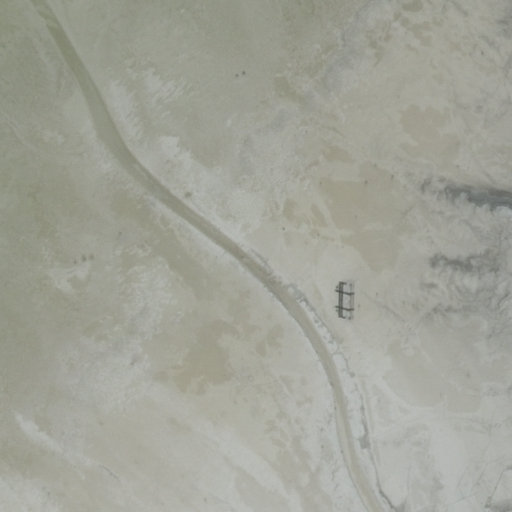TT: (330, 280, 353, 320)
